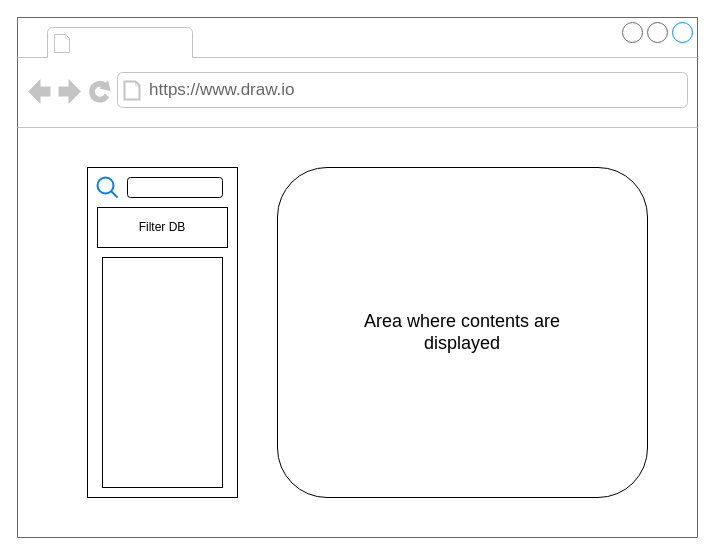
This 715x555 diagram has some shape labels left out. The box of each missing label's shape, as (x1, y1, x2, y2) in pixels:
Page 1: (76, 28, 188, 56)
Vaccinated Infected Is it safe? 2019 2020 Peak: (102, 256, 222, 488)
